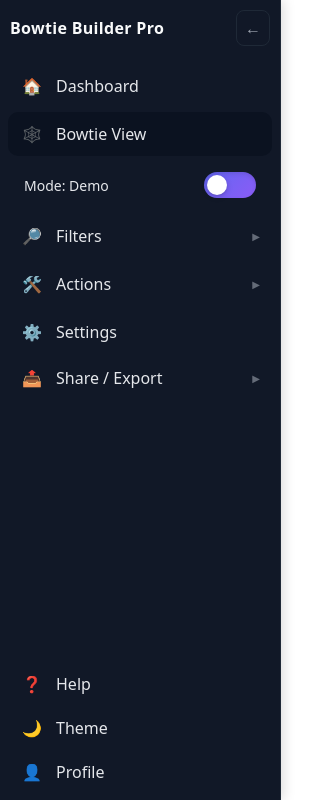
Scenario: Sidebar inline dropdown panels › opens actions dropdown when actions button is clicked
Click the button with aria-label "open actions panel" at (84, 284), box left=8, top=262, right=272, bottom=306
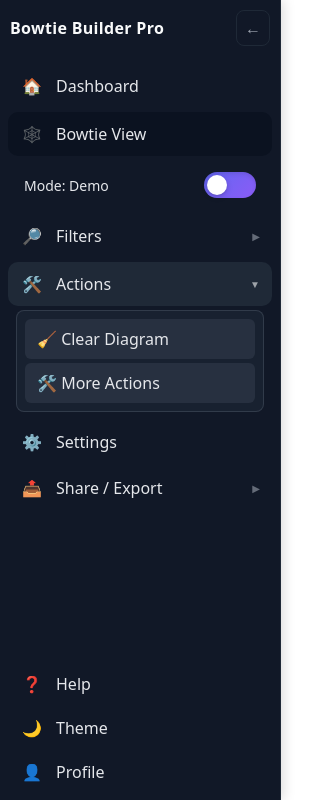
Expected: the element "🧹 Clear Diagram 🛠️ More Actions" is shown, left=16, top=310, right=264, bottom=412
Expected: the button with aria-label "open actions panel" is expanded, left=8, top=262, right=272, bottom=306
